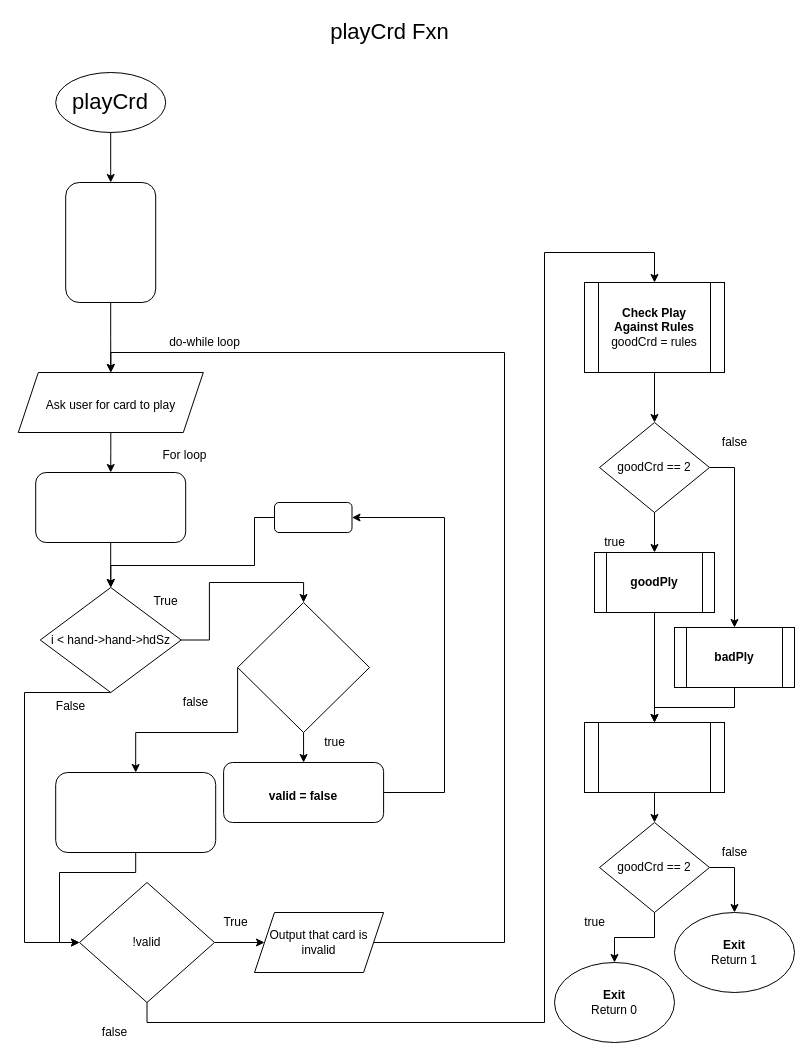
The diagram is 812 pixels wide and 1060 high, and some of its shapes have lost their labels. Each missing label, with the centre of its shape:
"Declare and Initialize in For Loop i=2" belongs at point 110,507.
"Declare Variables Outside Loop play valid posn goodCrd" belongs at point 110,242.
"hand->hand[i].card != play" belongs at point 303,667.
"i++" belongs at point 313,517.
"posn = i valid = true break" belongs at point 135,812.
"Write New Hand to File wrtBin" belongs at point 654,757.
